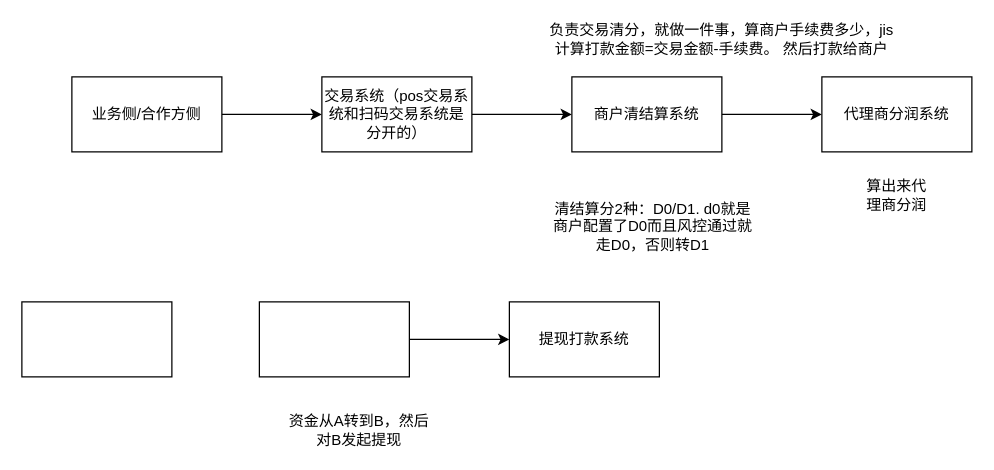
The diagram is 994 pixels wide and 470 high, and some of its shapes have lost their labels. The centre of each missing label's shape, as x and y in pixels:
"代付系统" belongs at point (333, 339).
"合作方发起代付" belongs at point (96, 339).
